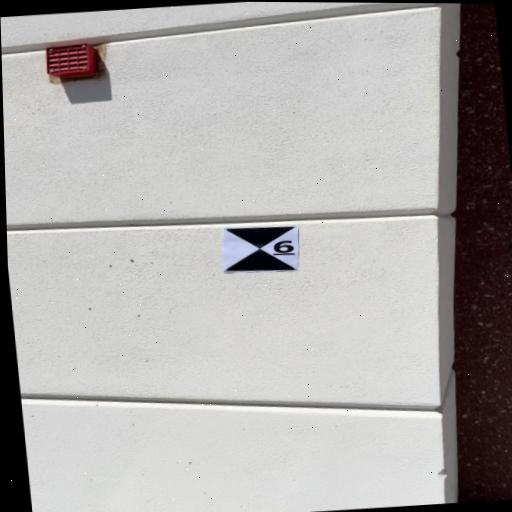target6: (223, 225, 300, 273)
